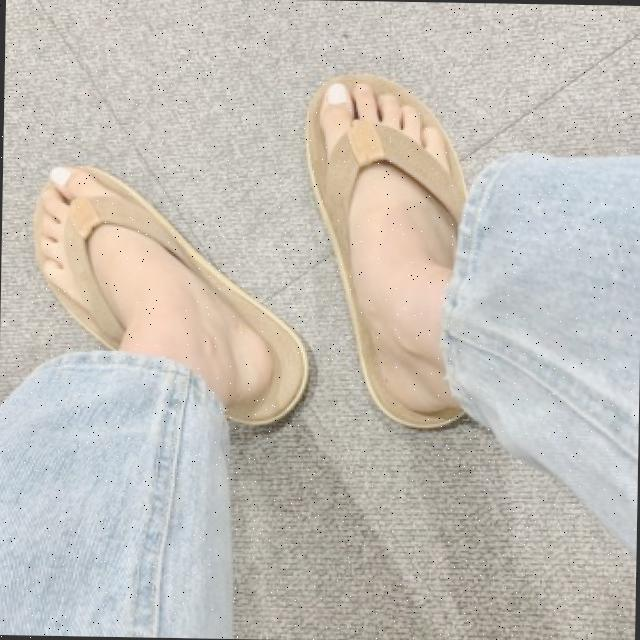no-boots: (15, 158, 312, 454), (281, 77, 494, 440)
